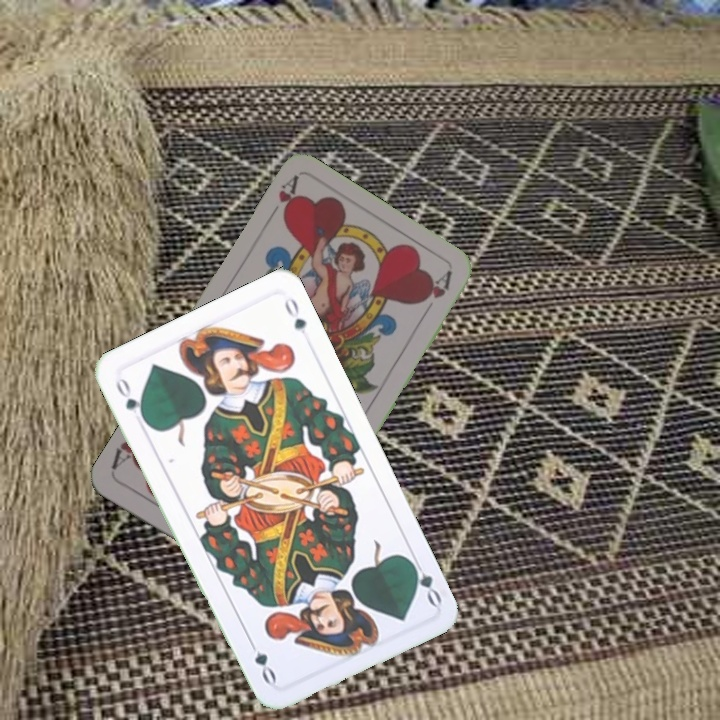GO: (404, 552, 445, 609), (111, 374, 149, 426)
HA: (262, 173, 303, 227)
